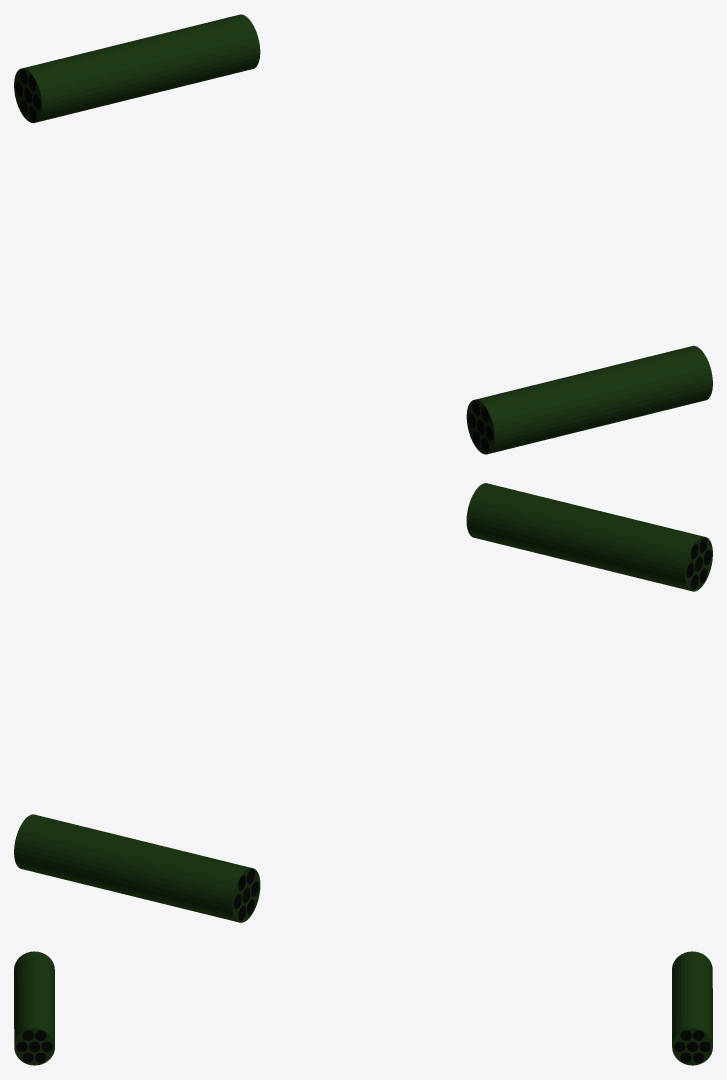
3 views of the same model, one above another, from view 1: azimuth 30°, elevation 25°; view 2: azimuth 150°, elevation 25°; view 3: azimuth 270°, elevation 25° (orthographic). The views are drawn at different scales.
Visible parts, largest first — view 1: 円柱.083, 円柱.003; view 2: 円柱.083, 円柱.003; view 3: 円柱.083, 円柱.003.
Part boxes in pixels (x1,y1,x2,y2): 円柱.083: (14, 14, 260, 123); 円柱.003: (466, 345, 712, 454); 円柱.083: (14, 814, 260, 922); 円柱.003: (466, 483, 712, 591); 円柱.083: (672, 951, 712, 1065); 円柱.003: (14, 951, 54, 1065).
Size of the model in its own units: 1.44 by 0.3243 by 5.49.
Materials: 1 (1 with a texture image).
